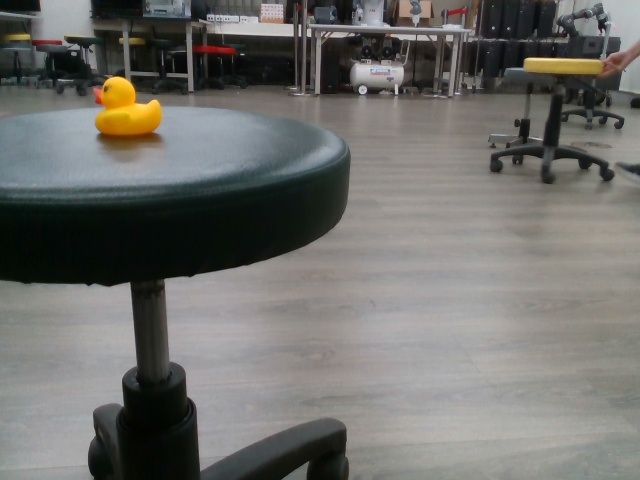duck: (91, 76, 166, 139)
